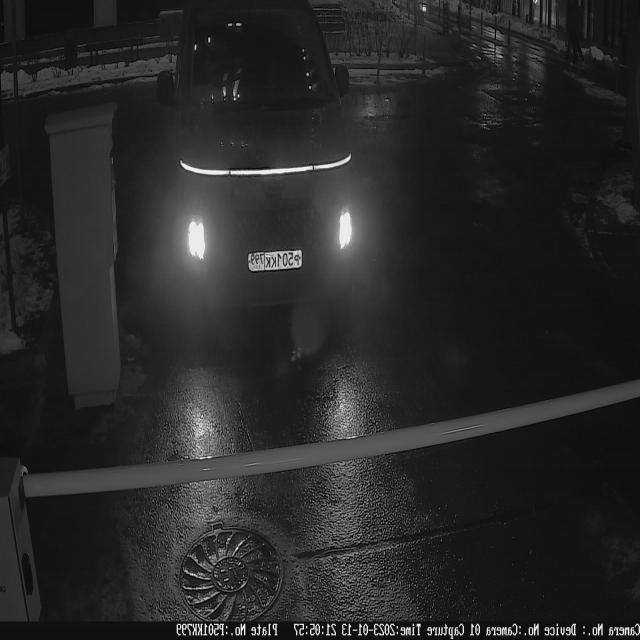car-plate-numbers: (247, 246, 304, 278)
